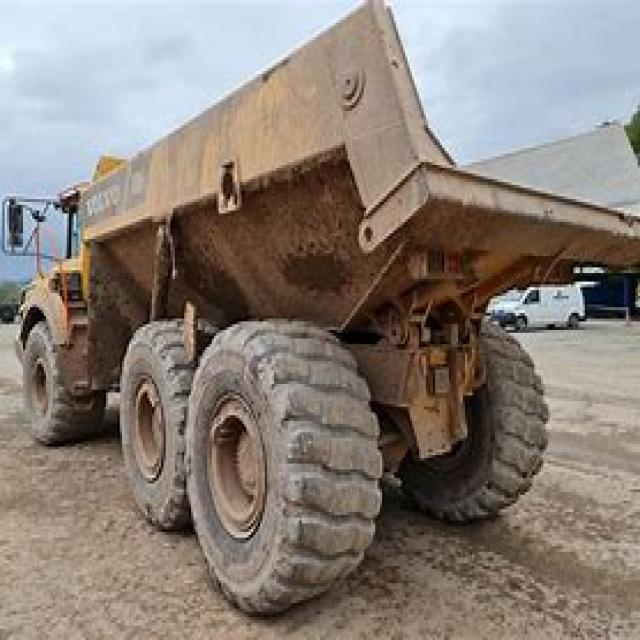dump_truck: (20, 3, 638, 611)
